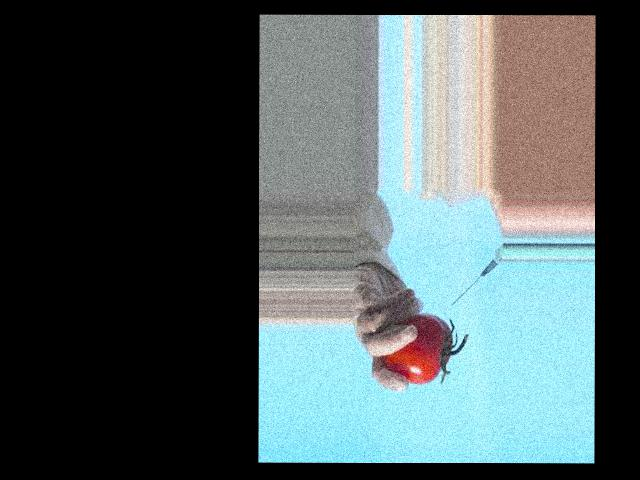tomato: (382, 314, 452, 385)
